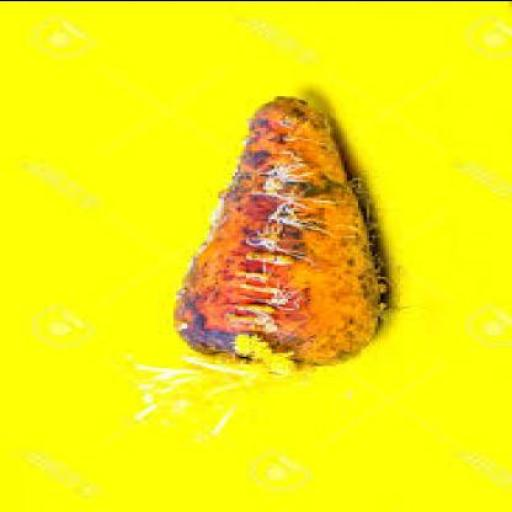biodegradable: (170, 98, 386, 370), (126, 335, 291, 439)
